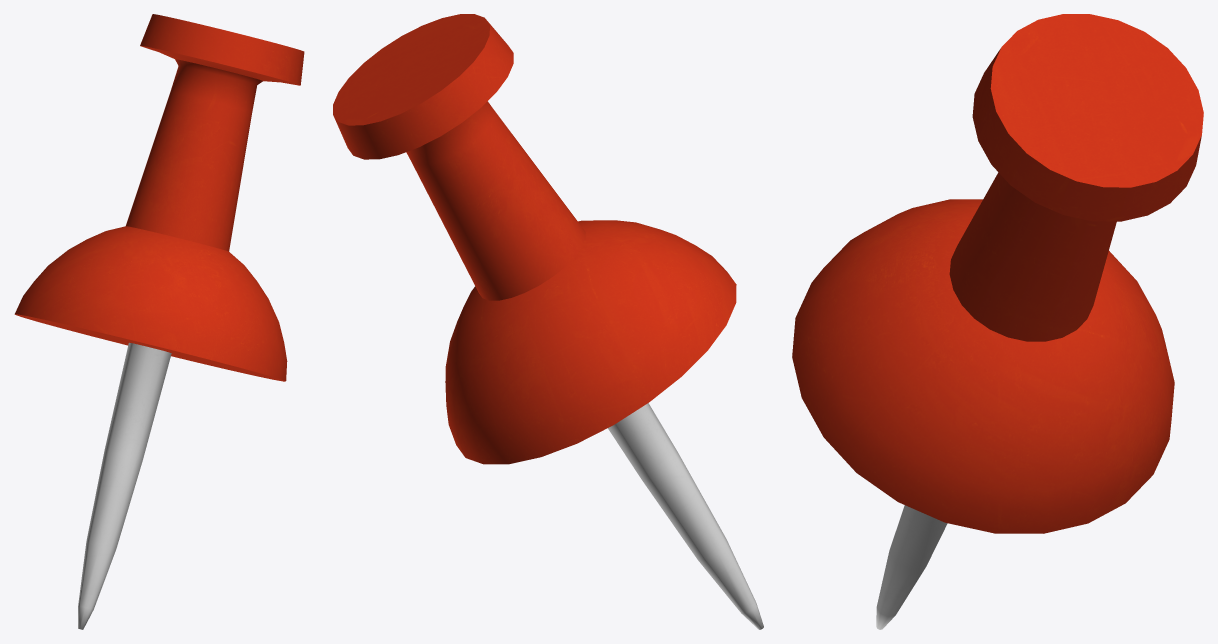
The model's file is Pin.glb.
3 renders of one model, left to right at view 1: azimuth 30°, elevation 25°; view 2: azimuth 150°, elevation 25°; view 3: azimuth 270°, elevation 25°, orthographic. The views are drawn at different scales.
Parts seen in each view (by area): view 1: Pin2, Pin2_Pin2_0.001; view 2: Pin2, Pin2_Pin2_0.001; view 3: Pin2, Pin2_Pin2_0.001.
Part boxes in pixels (x1,y1,x2,y2): Pin2: [14, 14, 304, 381]; Pin2_Pin2_0.001: [78, 342, 171, 629]; Pin2: [333, 14, 736, 464]; Pin2_Pin2_0.001: [608, 403, 763, 629]; Pin2: [792, 14, 1203, 533]; Pin2_Pin2_0.001: [876, 505, 947, 629].
Bounding box in the file's own units: 0.0268 × 0.0459 × 0.0234.
1 material, 1 textured.
